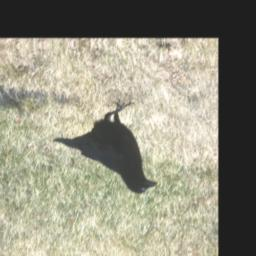Crow: (54, 101, 161, 200)
